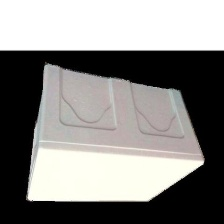foam_box: (19, 57, 209, 208)
